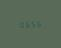five: (30, 19, 35, 27)
six: (24, 20, 29, 28), (36, 19, 41, 27)
zero: (18, 20, 23, 28)
